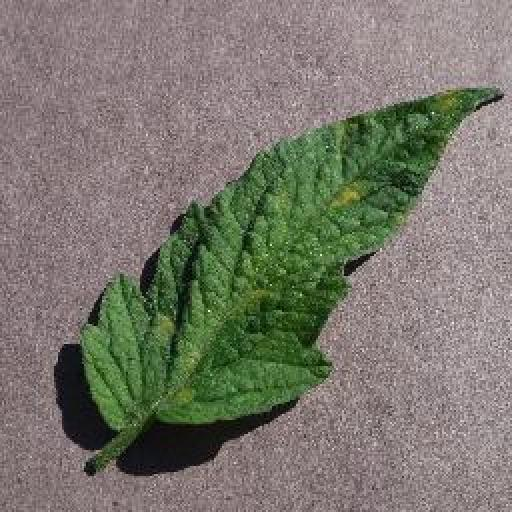disease_tomato: (79, 84, 503, 428)
